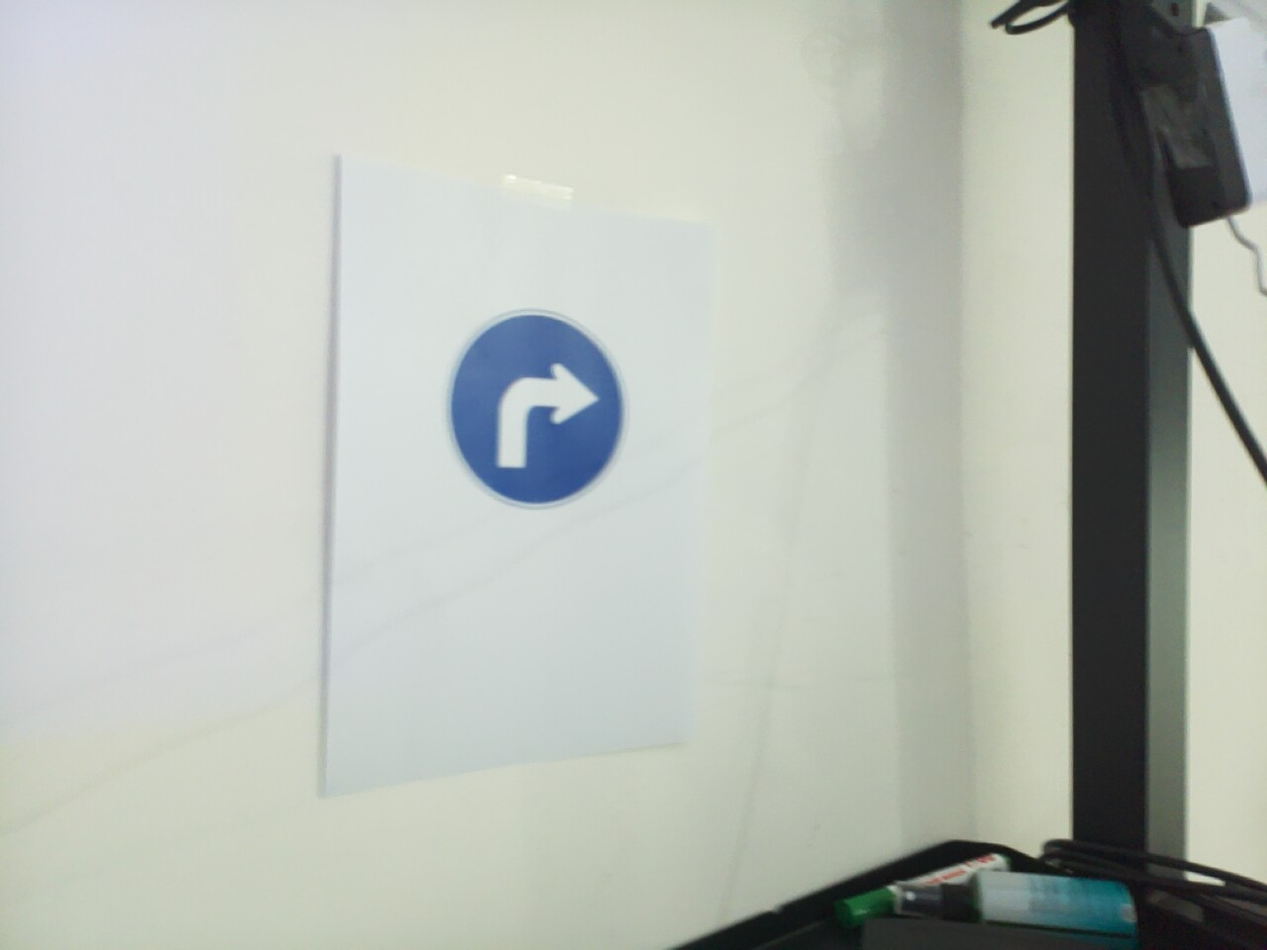right_turn: (658, 0, 1087, 950)
